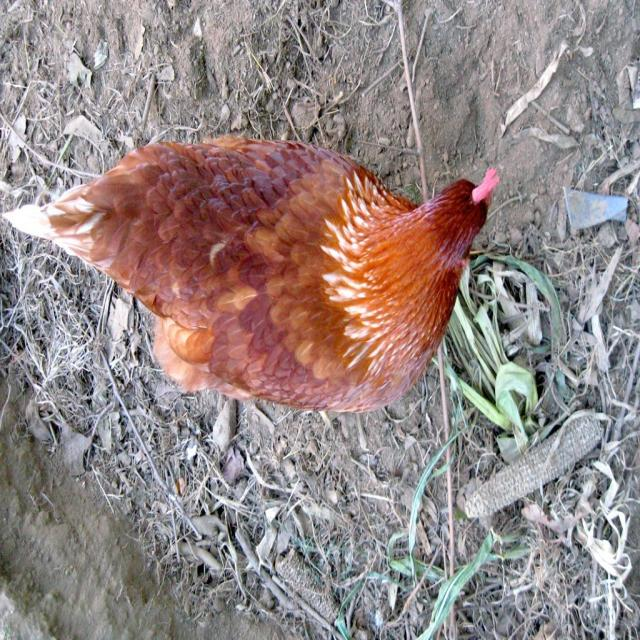Chicken: (0, 136, 500, 415)
